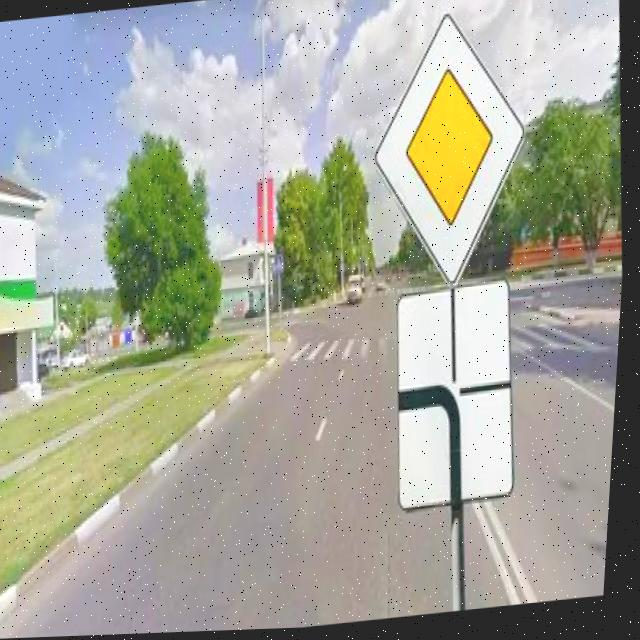signs: (361, 7, 544, 300)
